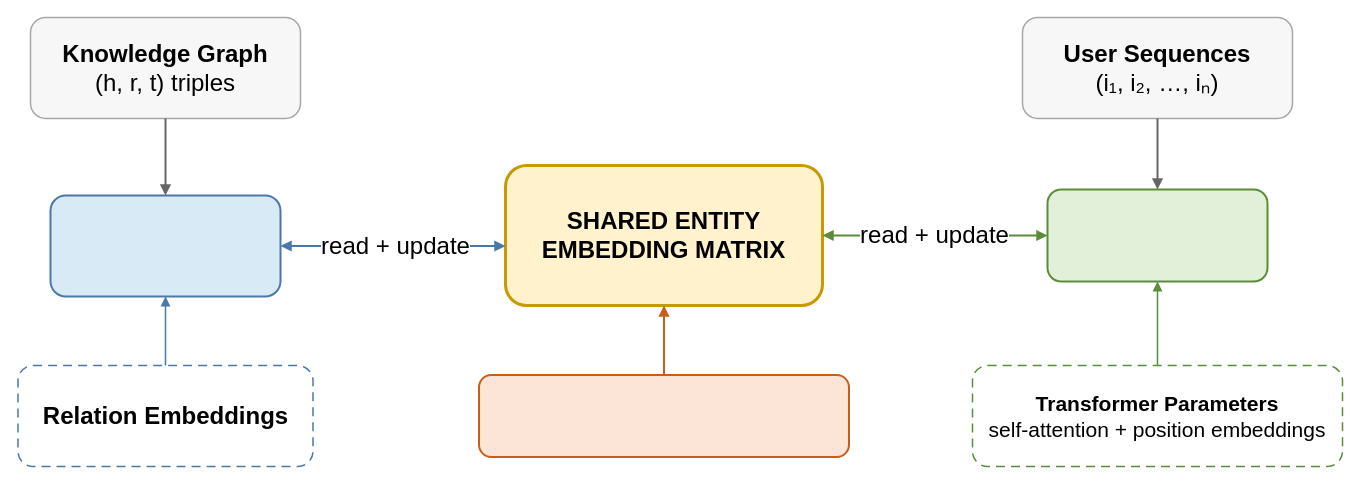
Some shapes in this 1360 by 485 pixel diagram are drawn without their labels. Here are the shapes that lost their labels. From the top down, the centre of each, then its label:
the point at 165,245: Task A: TransE KG link prediction
the point at 1157,235: Task B: SASRec Next-item prediction
the point at 664,416: Alternate learning Task A update ↔ Task B update
